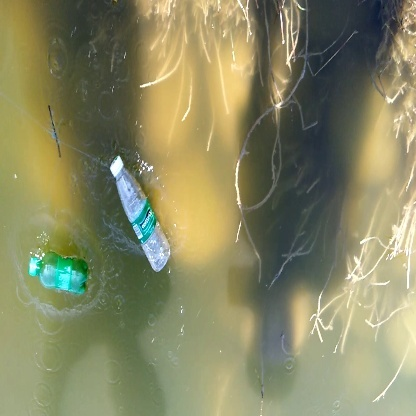bottle: (108, 150, 181, 274)
